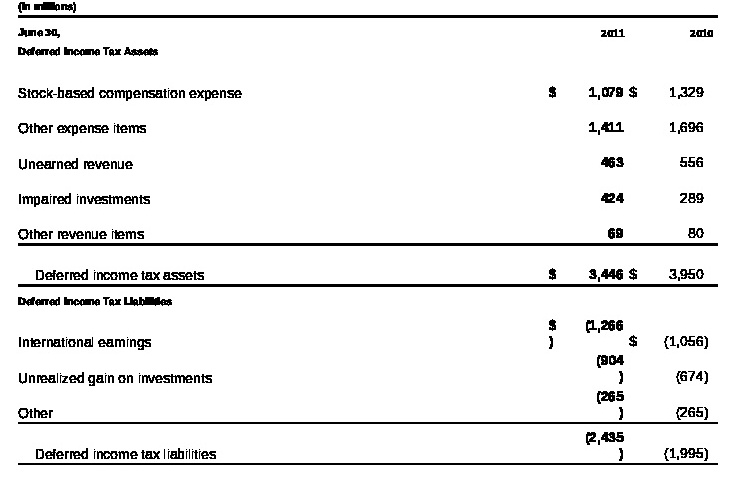table: (0, 0, 731, 480)
